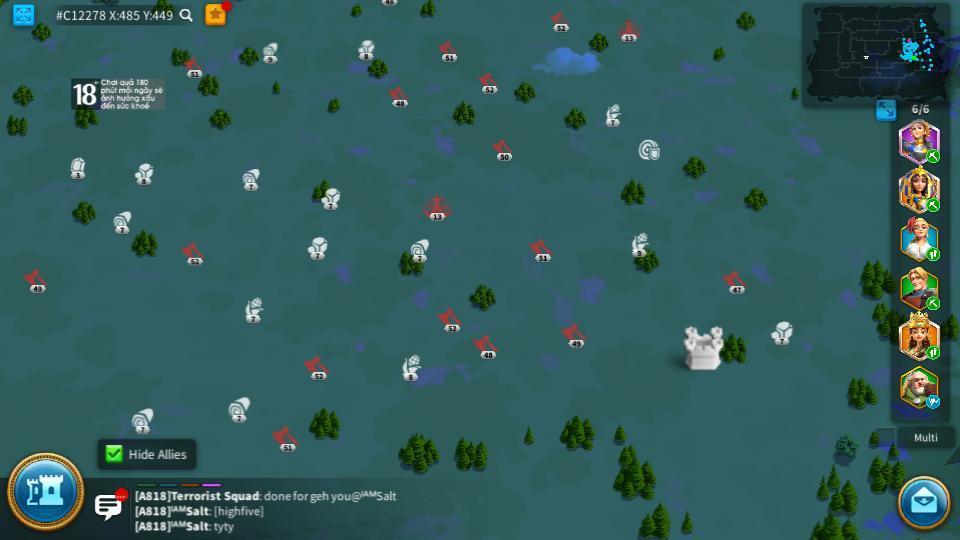gem-z-out: (68, 157, 87, 178)
march_farming: (925, 197, 941, 212)
march_idle: (925, 396, 942, 408)
march_marching: (925, 345, 941, 359), (925, 150, 942, 162), (925, 297, 941, 308)
